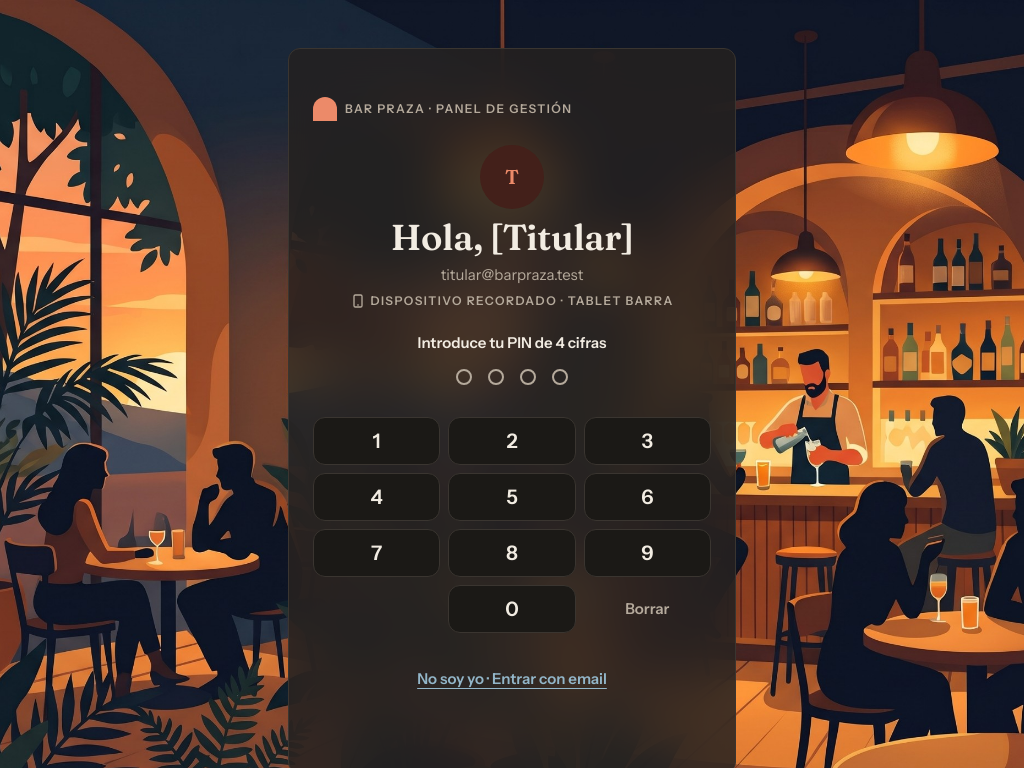
Scenario: PIN unlock screen (/login/pin) › deletes the last digit with Borrar
This screenshot has width=1024, height=768.
Expected: the heading "Hola, [Titular]" is shown, x1=391 y1=217 x2=633 y2=257
Click the button "1" at (377, 441), box x1=313 y1=417 x2=440 y2=465
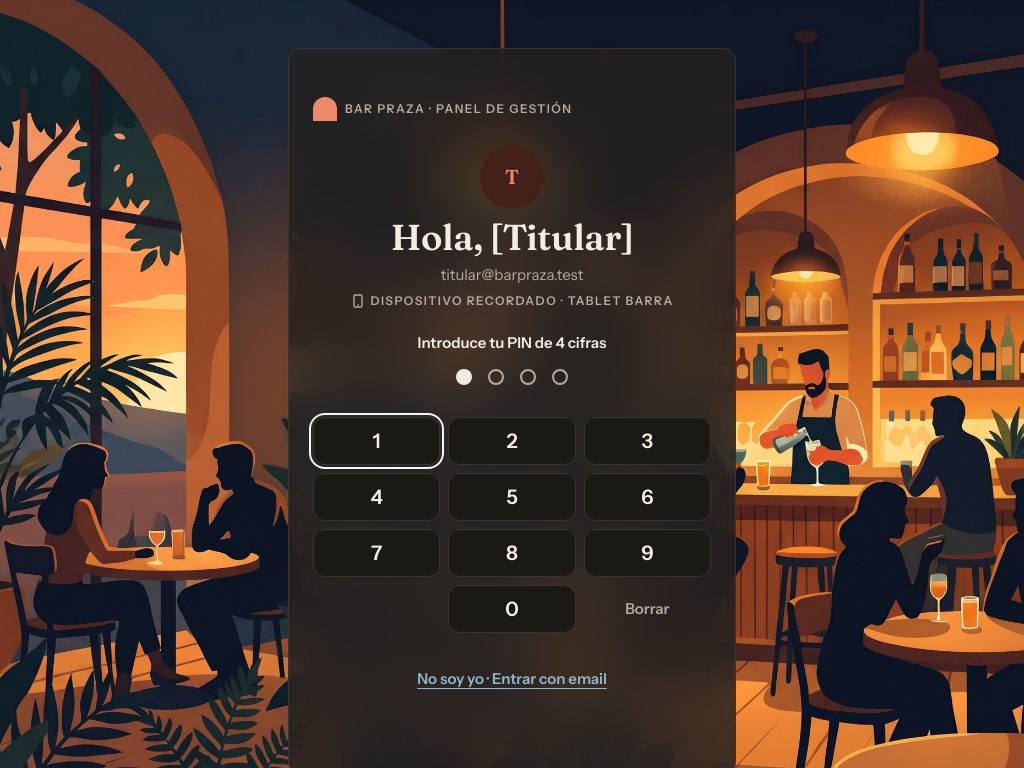
Click the button "2" at (512, 441), box x1=448 y1=417 x2=576 y2=465
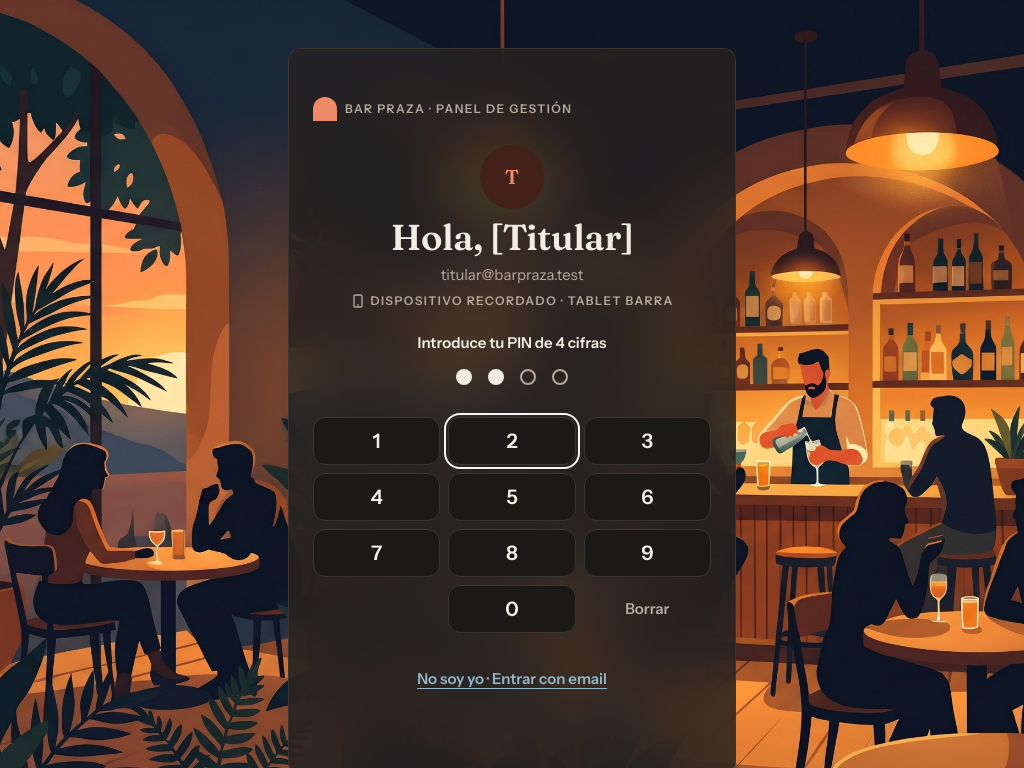
Click the button with aria-label "Borrar última cifra" at (647, 609), box x1=584 y1=585 x2=711 y2=633
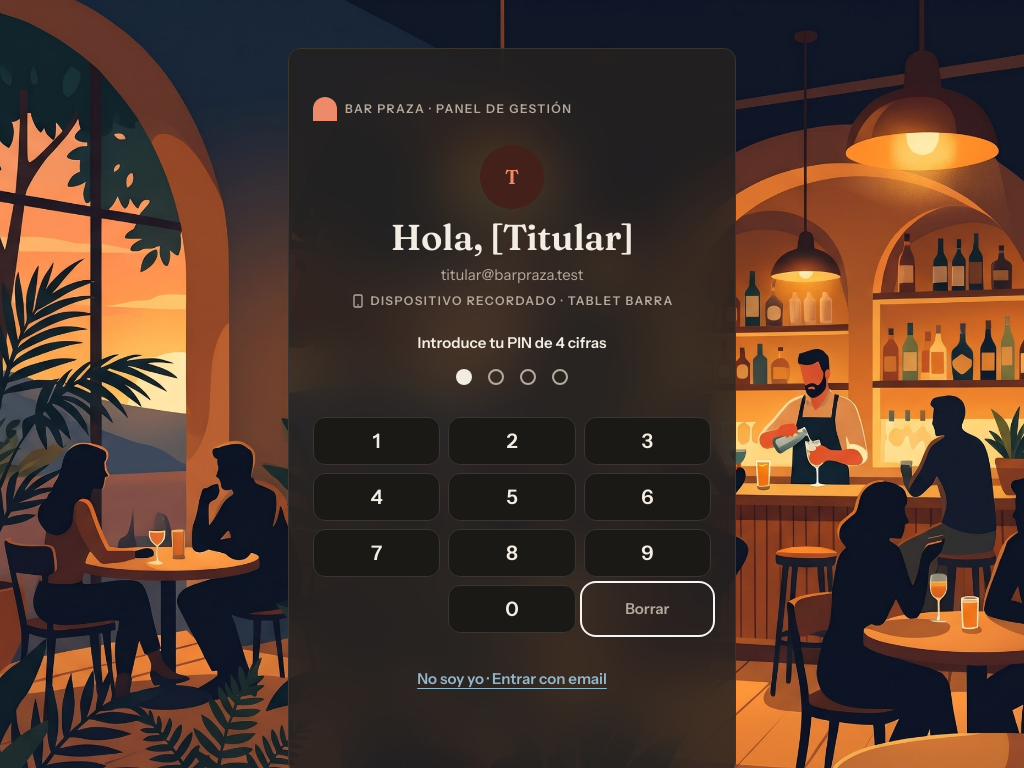
Result: the message named "PIN, 1 de 4 cifras" is shown at x1=456 y1=369 x2=568 y2=385
